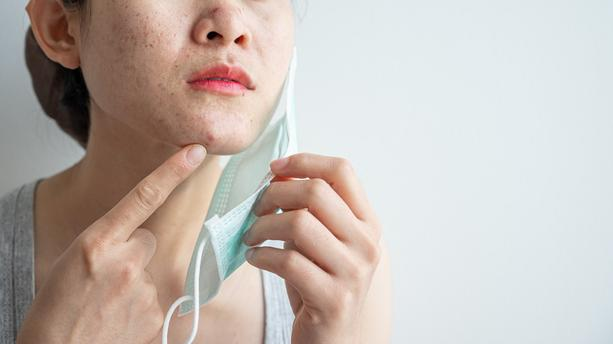with_incorrect_mask: (120, 3, 316, 270)
